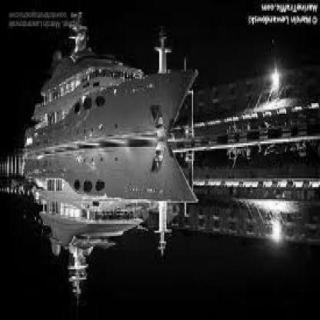other: (269, 198, 285, 246), (269, 59, 285, 93)
